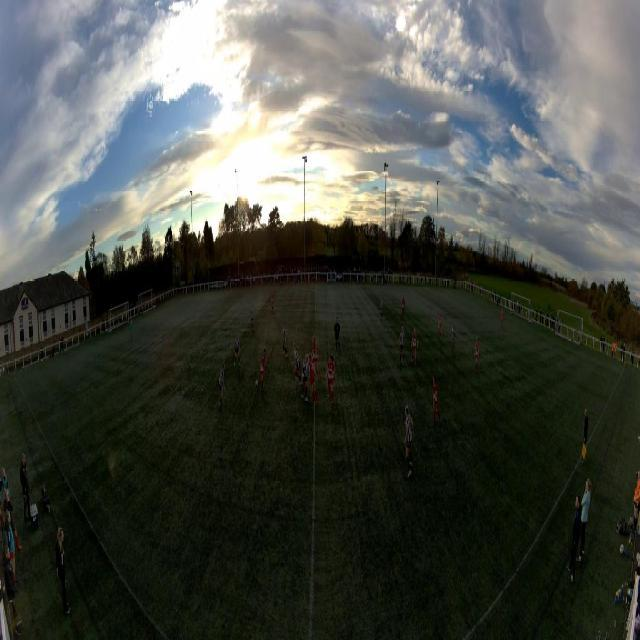ball: (255, 378, 258, 387)
player: (403, 403, 414, 480), (325, 353, 336, 405), (309, 355, 319, 406), (291, 343, 301, 385), (432, 377, 440, 421), (301, 353, 308, 402), (258, 350, 267, 388), (218, 363, 225, 407), (411, 328, 418, 364), (234, 335, 241, 370), (334, 314, 340, 353), (399, 326, 405, 364), (312, 337, 319, 367), (474, 337, 479, 373), (283, 324, 288, 356), (250, 305, 255, 332), (438, 310, 442, 339), (451, 325, 455, 353), (401, 295, 405, 319), (379, 296, 383, 320), (271, 292, 274, 313), (501, 308, 504, 326), (130, 320, 133, 337)
